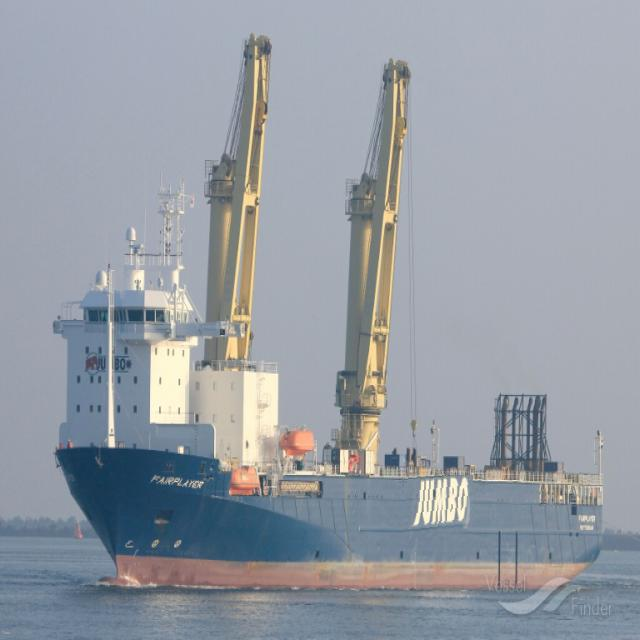OCR: (404, 475, 474, 541), (142, 464, 209, 494)
